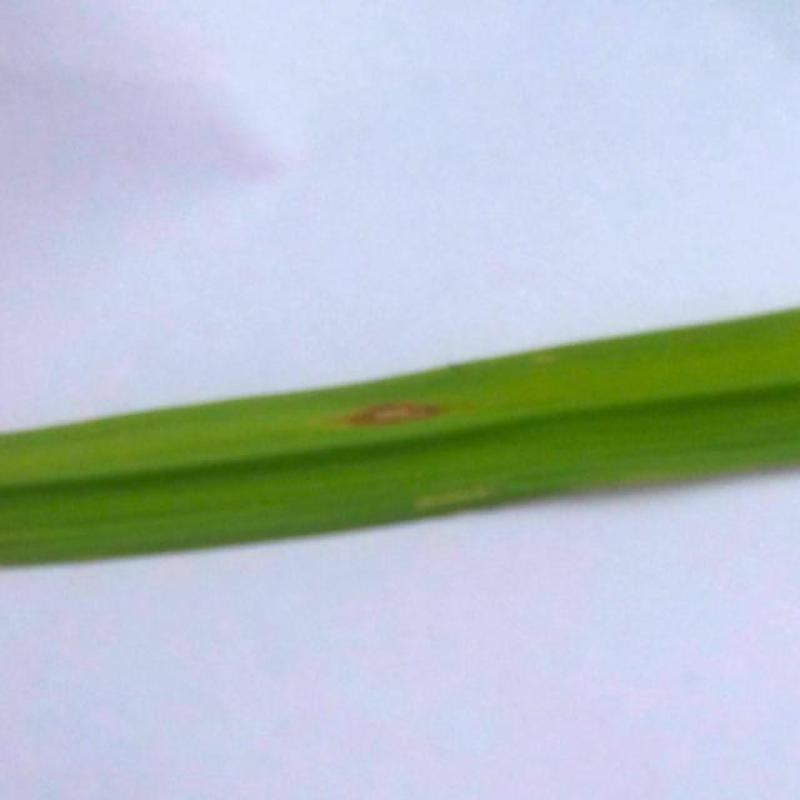Leaf_Blast: (305, 377, 489, 468)
